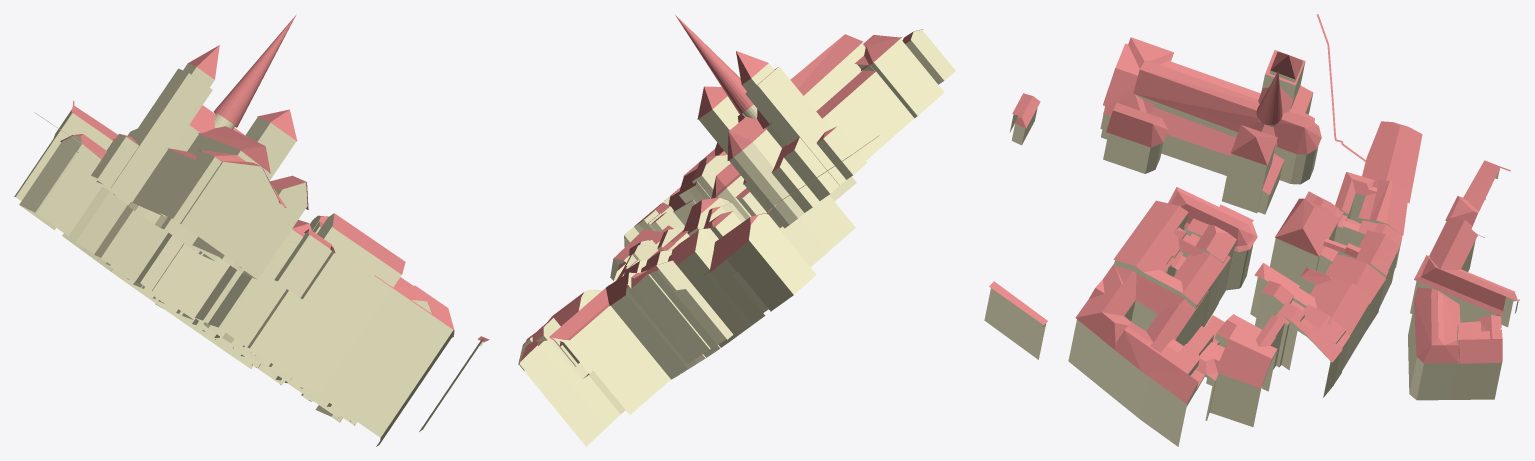
Rendered from tile_034.glb.
3 views of the same model, side by side, from view 1: azimuth 30°, elevation 25°; view 2: azimuth 150°, elevation 25°; view 3: azimuth 270°, elevation 25° (orthographic). The views are drawn at different scales.
Visible parts, largest first — view 1: Batched_Building_ID_DDDD46FB-96B5-444F-A073-0C46912D3EB1, Batched_Building_ID_DB17250B-50F3-482E-B2E4-7F50634AACC3; view 2: Batched_Building_ID_DDDD46FB-96B5-444F-A073-0C46912D3EB1, Batched_Building_ID_DB17250B-50F3-482E-B2E4-7F50634AACC3; view 3: Batched_Building_ID_DB17250B-50F3-482E-B2E4-7F50634AACC3, Batched_Building_ID_DDDD46FB-96B5-444F-A073-0C46912D3EB1.
Part boxes in pixels (x1,y1,x2,y2): Batched_Building_ID_DDDD46FB-96B5-444F-A073-0C46912D3EB1: [14, 63, 484, 446]; Batched_Building_ID_DB17250B-50F3-482E-B2E4-7F50634AACC3: [60, 14, 489, 342]; Batched_Building_ID_DDDD46FB-96B5-444F-A073-0C46912D3EB1: [518, 29, 955, 446]; Batched_Building_ID_DB17250B-50F3-482E-B2E4-7F50634AACC3: [518, 15, 923, 378]; Batched_Building_ID_DB17250B-50F3-482E-B2E4-7F50634AACC3: [989, 14, 1519, 403]; Batched_Building_ID_DDDD46FB-96B5-444F-A073-0C46912D3EB1: [984, 53, 1518, 446].
Size of the model in its own units: 122 by 135 by 180.
